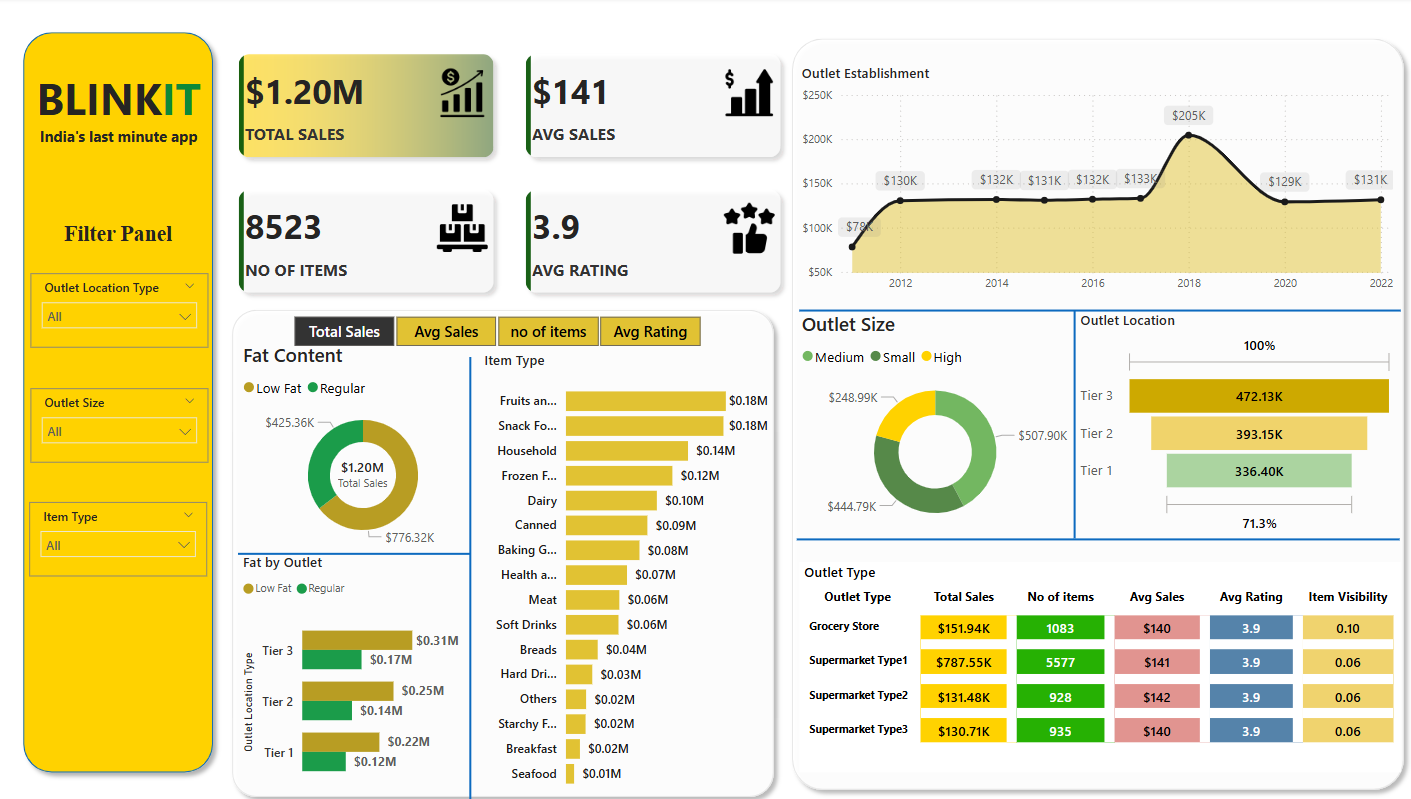

The dashboard page shown, as its layout file describes it:
{"tool":"powerbi","page":{"name":"Page 1","canvas":[1400,800],"ordinal":0},"visuals":[{"type":"shape","box":[16.5,25.5,205.6,750.4],"z":0},{"type":"textbox","box":[16.1,65.7,206.4,108.6],"z":1000},{"type":"cardVisual","fields":{"Data":["BlinkIT Grocery Data.Total Sales","BlinkIT Grocery Data.Avg Sales","BlinkIT Grocery Data.number of items","BlinkIT Grocery Data.Average Rating"]},"box":[222,39,570.3,270.2],"z":2000},{"type":"shape","box":[222.1,300.2,554,500],"z":3000},{"type":"donutChart","title":"Fat Content","fields":{"Y":["BlinkIT Grocery Data.Total Sales"],"Category":["BlinkIT Grocery Data.Item Fat Content"]},"box":[237.3,341.8,248,209.1],"z":4000},{"type":"slicer","fields":{"Values":["metrics.metrics"]},"box":[266.8,309.7,451.7,40.2],"z":5000},{"type":"cardVisual","fields":{"Data":["BlinkIT Grocery Data.Total Sales"]},"box":[323.1,443.7,76.4,49.6],"z":6000},{"type":"clusteredBarChart","title":"Fat by Outlet","fields":{"Y":["BlinkIT Grocery Data.Total Sales"],"Category":["BlinkIT Grocery Data.Outlet Location Type"],"Series":["BlinkIT Grocery Data.Item Fat Content"]},"box":[237.3,549.6,223.9,244],"z":7000},{"type":"shape","box":[237.3,542.9,230.6,16.1],"z":8000},{"type":"shape","box":[461.1,356.6,12.1,443.7],"z":9000},{"type":"barChart","title":"Item Type","fields":{"Y":["BlinkIT Grocery Data.Total Sales"],"Category":["BlinkIT Grocery Data.Item Type"]},"box":[460.8,349.7,297.2,444.3],"z":10000},{"type":"shape","box":[776.1,32.2,623.3,761.4],"z":11000},{"type":"lineChart","title":"Outlet Establishment","fields":{"Y":["BlinkIT Grocery Data.Total Sales"],"Category":["BlinkIT Grocery Data.Outlet Establishment Year"]},"box":[790.9,65.7,595.2,234.6],"z":12000},{"type":"shape","box":[792.2,160.9,595.2,298.9],"z":13000},{"type":"donutChart","title":"Outlet Size","fields":{"Y":["BlinkIT Grocery Data.Total Sales"],"Category":["BlinkIT Grocery Data.Outlet Size"]},"box":[790.9,311,274.8,225.2],"z":14000},{"type":"shape","box":[1052.3,311,25.5,225.2],"z":15000},{"type":"funnel","title":"Outlet Location","fields":{"Y":["Sum(BlinkIT Grocery Data.Sales)"],"Category":["BlinkIT Grocery Data.Outlet Location Type"]},"box":[1065.7,311,320.4,225.2],"z":16000},{"type":"shape","box":[790.9,521.5,596.5,29.5],"z":17000},{"type":"pivotTable","title":"Outlet Type","fields":{"Rows":["BlinkIT Grocery Data.Outlet Type"],"Values":["BlinkIT Grocery Data.Total Sales","BlinkIT Grocery Data.number of items","BlinkIT Grocery Data.Avg Sales","BlinkIT Grocery Data.Average Rating","Avg(BlinkIT Grocery Data.Item Visibility)"]},"box":[792.2,559,595.2,207.8],"z":18000},{"type":"slicer","fields":{"Values":["BlinkIT Grocery Data.Outlet Location Type"]},"box":[32.2,273.5,175.6,73.7],"z":19000},{"type":"slicer","fields":{"Values":["BlinkIT Grocery Data.Outlet Size"]},"box":[32.2,387.4,175.6,73.7],"z":20000},{"type":"slicer","fields":{"Values":["BlinkIT Grocery Data.Item Type"]},"box":[30.8,500,175.6,73.7],"z":21000},{"type":"textbox","box":[30.8,217.2,175.6,38.9],"z":22000},{"type":"textbox","box":[1144.8,744,254.7,44.2],"z":23000}]}

Visuals, with their boxes in screenshot pixels (x1, y1, x2, y2), scaled from the page's 1400x800 canvas onto the 1411x799 screenshot:
shape: crop(17, 25, 224, 775)
textbox: crop(16, 66, 224, 174)
cardVisual - BlinkIT Grocery Data.Total Sales x BlinkIT Grocery Data.Avg Sales: crop(224, 39, 799, 309)
shape: crop(224, 300, 782, 798)
"Fat Content" donutChart: crop(239, 341, 489, 550)
slicer - metrics.metrics: crop(269, 309, 724, 349)
cardVisual - BlinkIT Grocery Data.Total Sales: crop(326, 443, 403, 493)
"Fat by Outlet" clusteredBarChart: crop(239, 549, 465, 793)
shape: crop(239, 542, 472, 558)
shape: crop(465, 356, 477, 798)
"Item Type" barChart: crop(464, 349, 764, 793)
shape: crop(782, 32, 1410, 793)
"Outlet Establishment" lineChart: crop(797, 66, 1397, 300)
shape: crop(798, 161, 1398, 459)
"Outlet Size" donutChart: crop(797, 311, 1074, 536)
shape: crop(1061, 311, 1086, 536)
"Outlet Location" funnel: crop(1074, 311, 1397, 536)
shape: crop(797, 521, 1398, 550)
"Outlet Type" pivotTable: crop(798, 558, 1398, 766)
slicer - BlinkIT Grocery Data.Outlet Location Type: crop(32, 273, 209, 347)
slicer - BlinkIT Grocery Data.Outlet Size: crop(32, 387, 209, 461)
slicer - BlinkIT Grocery Data.Item Type: crop(31, 499, 208, 573)
textbox: crop(31, 217, 208, 256)
textbox: crop(1154, 743, 1410, 787)
